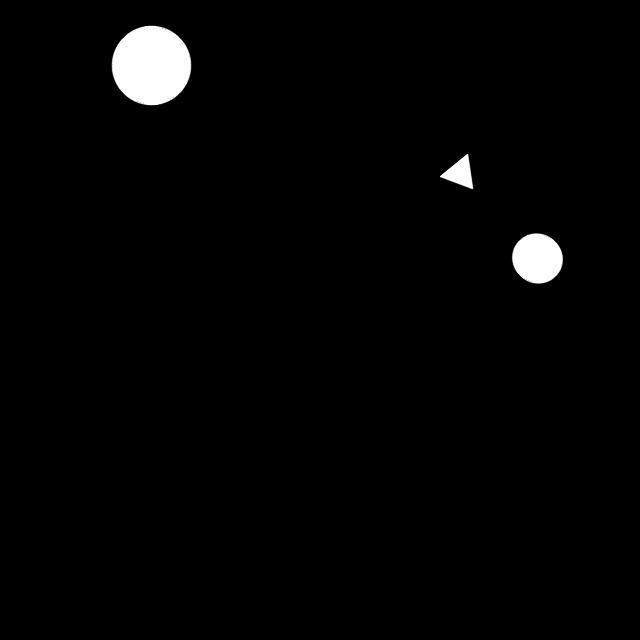Circle: (103, 14, 204, 115), (504, 228, 574, 293)
Triangle: (432, 144, 480, 196)
